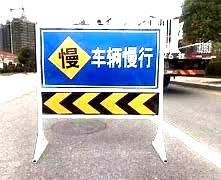sign: (39, 27, 160, 117)
